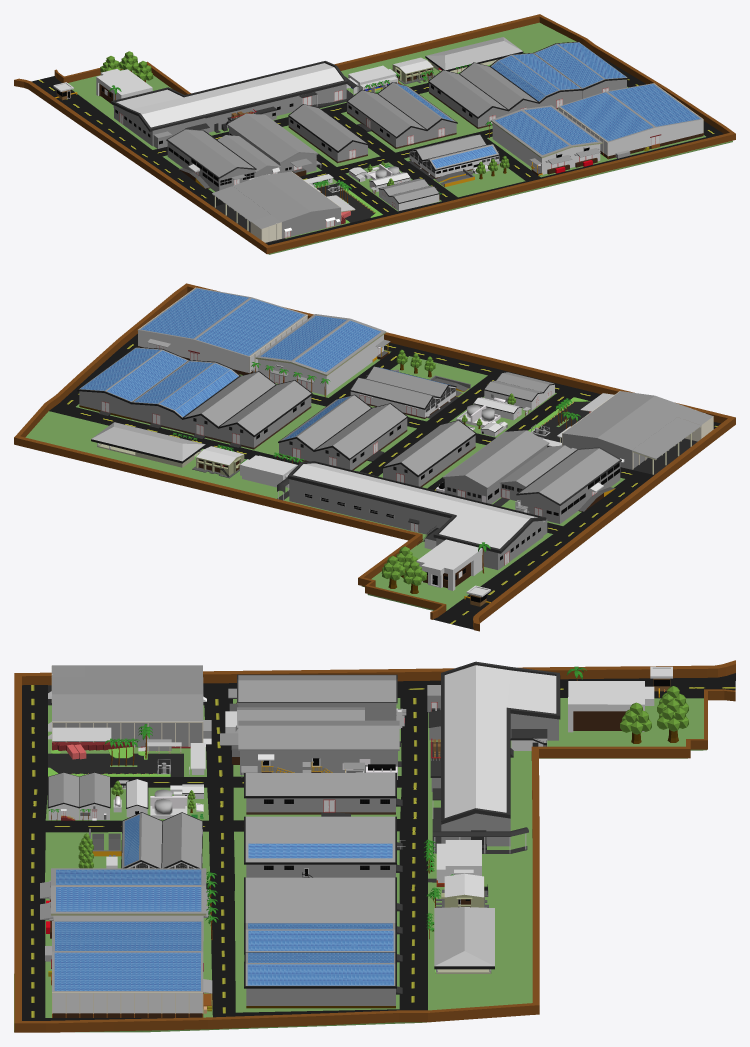
Rendered from TrabajoProyectoARv62.fbx.
3 views of the same model, one above another, from view 1: azimuth 30°, elevation 25°; view 2: azimuth 150°, elevation 25°; view 3: azimuth 270°, elevation 25° (orthographic). The views are drawn at different scales.
Parts seen in each view (by area): view 1: Cube.277, Carretera, Cesped, Almacen8, Cube.014, techos, Cube.298, Cube.019, Cube.273, Cube.274, edificio 5frente a teco techo.001, edificio 1 frente a teco techo.003 (+22 smaller); view 2: Cube.277, Carretera, Cesped, techos, Almacen8, Cube.014, Cube.298, Cube.019, Cube.273, Cube.274, edificio 5frente a teco techo.001, edificio 1 frente a teco techo.003 (+23 smaller); view 3: Carretera, Cesped, Cube.277, techos, Almacen8, Cube.014, Cube.019, Cube.298, Cube.274, Cube.273, edificio 1 frente a teco techo.003, edificio 5frente a teco techo.001 (+23 smaller).
Boxes of the visible parts, bbox=[...] form: Cube.277: bbox=[14, 14, 735, 254]; Carretera: bbox=[31, 54, 723, 245]; Cesped: bbox=[68, 22, 732, 254]; Almacen8: bbox=[559, 83, 703, 159]; Cube.014: bbox=[111, 61, 348, 131]; techos: bbox=[346, 62, 539, 138]; Cube.298: bbox=[490, 105, 602, 174]; Cube.019: bbox=[232, 171, 340, 238]; Cube.273: bbox=[166, 129, 256, 191]; Cube.274: bbox=[227, 113, 318, 172]; edificio 5frente a teco techo.001: bbox=[489, 53, 583, 103]; edificio 1 frente a teco techo.003: bbox=[533, 41, 628, 89]; Cube.277: bbox=[14, 283, 735, 631]; Carretera: bbox=[49, 299, 720, 629]; Cesped: bbox=[25, 350, 624, 610]; techos: bbox=[182, 371, 408, 460]; Almacen8: bbox=[138, 287, 306, 375]; Cube.014: bbox=[287, 461, 546, 553]; Cube.298: bbox=[255, 314, 386, 395]; Cube.019: bbox=[562, 391, 689, 469]; Cube.273: bbox=[516, 447, 621, 523]; Cube.274: bbox=[443, 430, 549, 503]; edificio 5frente a teco techo.001: bbox=[130, 360, 240, 419]; edificio 1 frente a teco techo.003: bbox=[77, 347, 188, 403]; Carretera: bbox=[22, 673, 735, 1020]; Cesped: bbox=[14, 698, 706, 1032]; Cube.277: bbox=[14, 660, 735, 1032]; techos: bbox=[244, 816, 396, 922]; Almacen8: bbox=[52, 921, 203, 1017]; Cube.014: bbox=[441, 661, 560, 824]; Cube.019: bbox=[52, 677, 203, 747]; Cube.298: bbox=[51, 868, 206, 940]; Cube.274: bbox=[238, 720, 399, 774]; Cube.273: bbox=[237, 674, 397, 720]; edificio 1 frente a teco techo.003: bbox=[244, 952, 396, 988]; edificio 5frente a teco techo.001: bbox=[244, 923, 396, 954].
Bounding box in the file's own units: 4676 × 347 × 3927.
167 materials, 26 textured.
